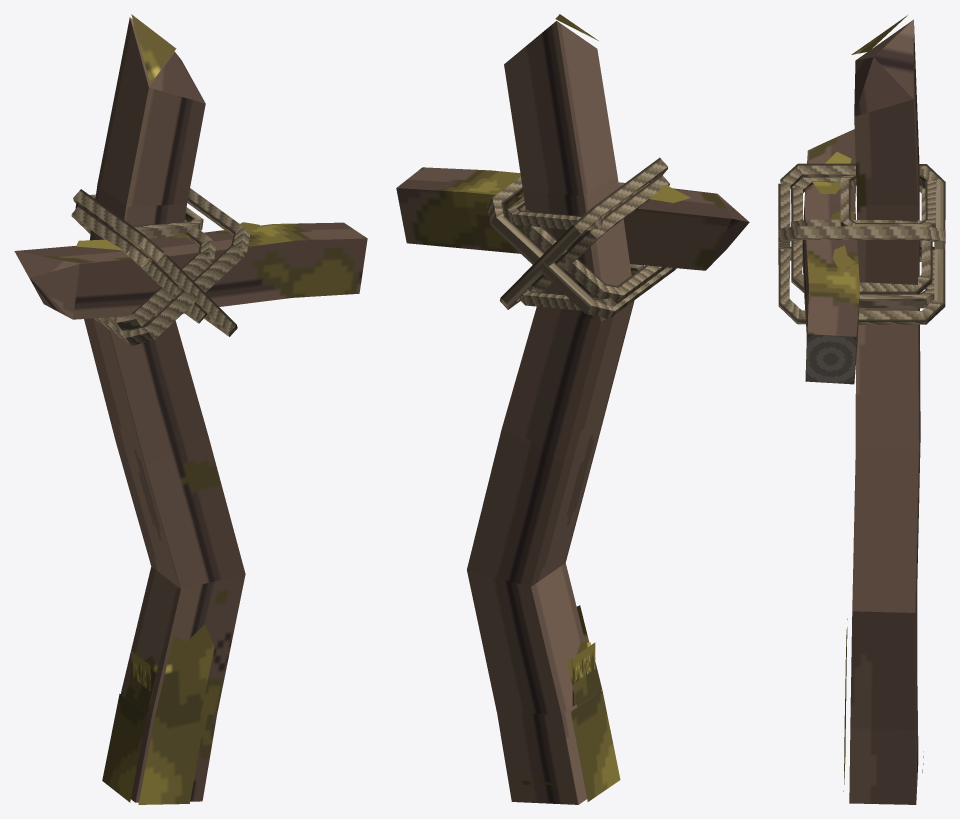
Rendered from SM_SW24_WoodenCrossThinBroken.fbx.
The picture shows the model from 3 angles, left to right: view 1: azimuth 30°, elevation 25°; view 2: azimuth 150°, elevation 25°; view 3: azimuth 270°, elevation 25°; orthographic projection. The views are drawn at different scales.
Visible parts, largest first — view 1: SW24b_Planks, SW24b_Moss, SW24b_Props; view 2: SW24b_Planks, SW24b_Props, SW24b_Moss, SW24b_Plants; view 3: SW24b_Planks, SW24b_Props, SW24b_Moss.
Boxes of the visible parts, x1,y1,x2,y2 form: SW24b_Planks: (14,17,367,802); SW24b_Moss: (76,14,260,804); SW24b_Props: (71,188,249,345); SW24b_Planks: (396,21,749,804); SW24b_Props: (486,157,676,319); SW24b_Moss: (496,14,690,801); SW24b_Plants: (572,642,595,706); SW24b_Planks: (802,19,920,804); SW24b_Props: (778,163,945,384); SW24b_Moss: (812,15,923,791).
Bounding box in the file's own units: 0.6213 × 1.4 × 0.2753.
